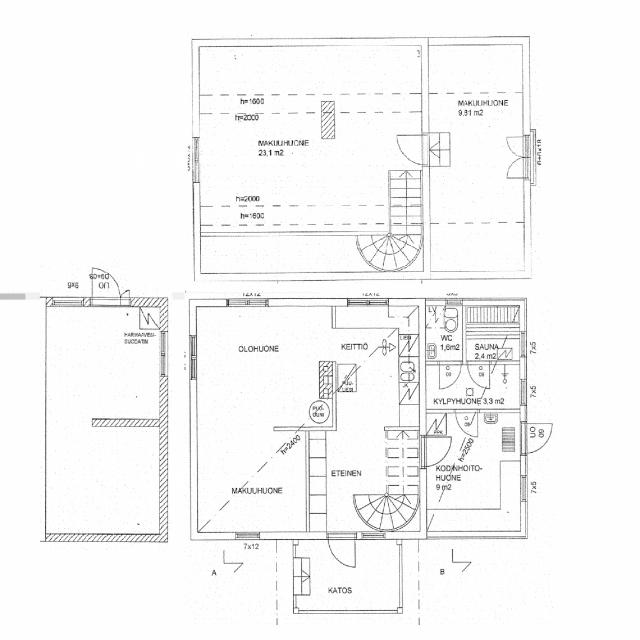door: (519, 423, 554, 453), (394, 135, 429, 165), (92, 269, 120, 306), (419, 437, 453, 467), (328, 532, 355, 568), (456, 409, 478, 436), (439, 362, 461, 388), (468, 362, 490, 388), (503, 157, 530, 178), (503, 137, 530, 157), (120, 290, 129, 306)
